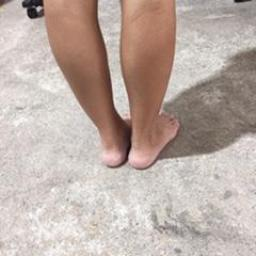Back View -Both Feet-: (65, 85, 189, 175)
